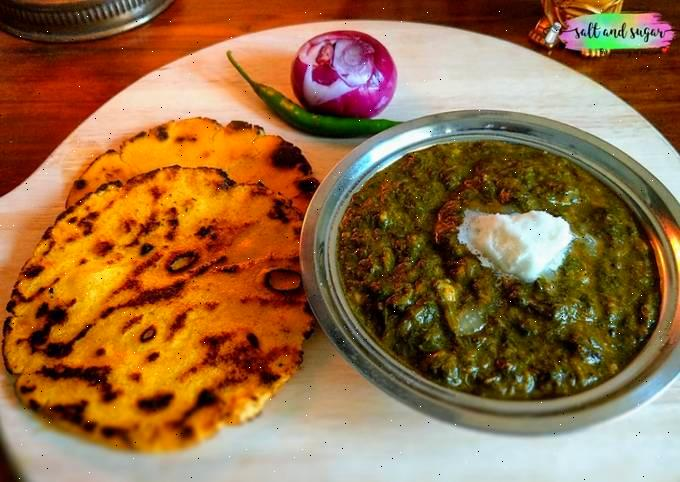saag: (343, 142, 670, 394)
